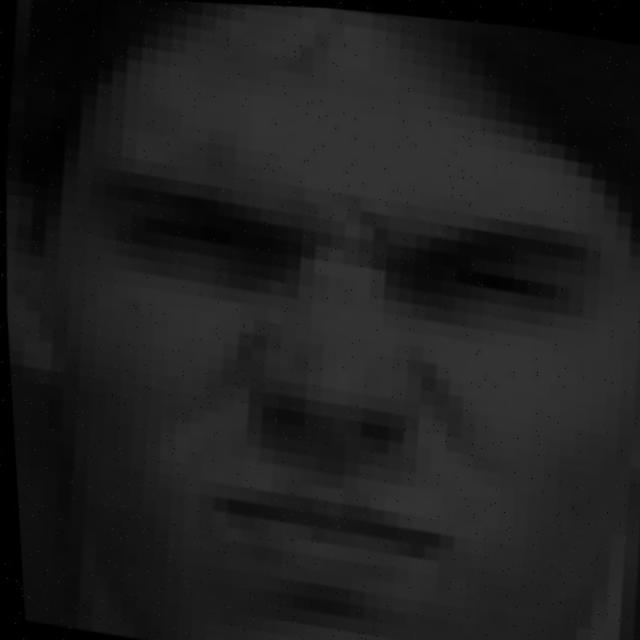Disgust: (33, 120, 628, 628)
